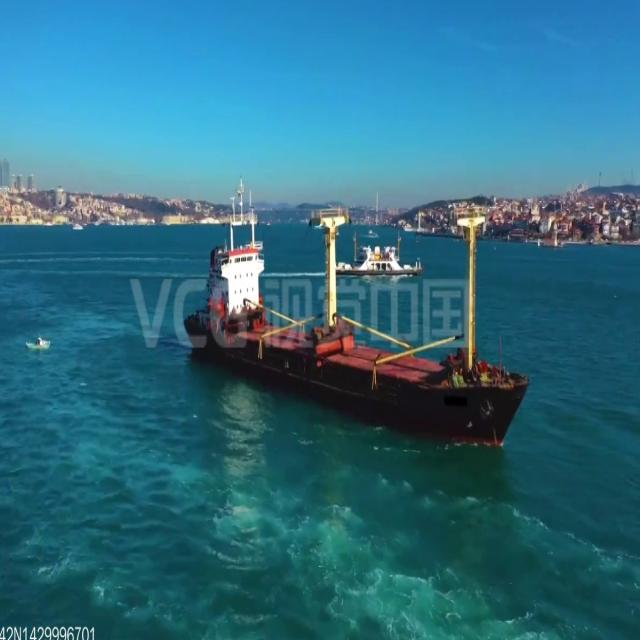cargoship: (166, 217, 526, 450)
fishing boat: (329, 231, 424, 279)
houseboat: (26, 328, 52, 355)
